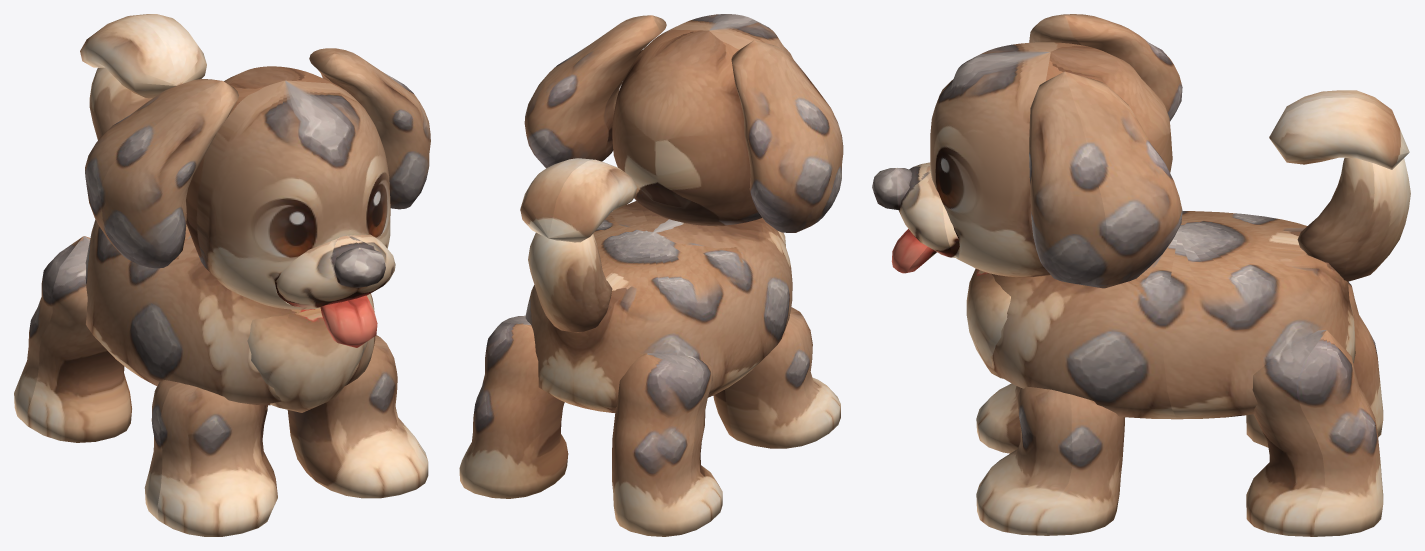
The model's file is pebblepup.glb.
3 views of the same model, side by side, from view 1: azimuth 30°, elevation 25°; view 2: azimuth 150°, elevation 25°; view 3: azimuth 270°, elevation 25° (orthographic). The views are drawn at different scales.
Parts seen in each view (by area): view 1: pebblepup; view 2: pebblepup; view 3: pebblepup.
Part boxes in pixels (box(x1,y1,x2,y2)): pebblepup: box(14, 14, 430, 536); pebblepup: box(459, 14, 843, 536); pebblepup: box(872, 14, 1410, 536).
Size of the model in its own units: 0.3374 by 0.4399 by 0.485.
1 material, 1 textured.
